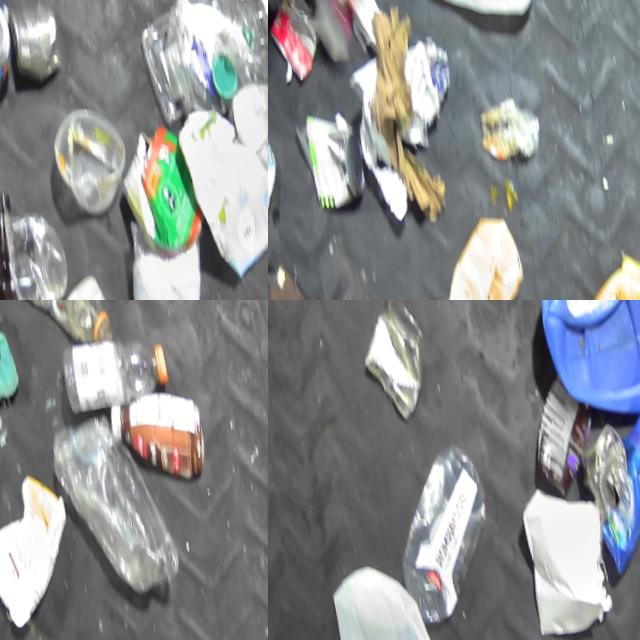can: (353, 300, 439, 424), (304, 106, 374, 212), (1, 0, 70, 97), (0, 0, 26, 106)
milk_jug: (327, 550, 464, 640), (403, 0, 556, 27)
non_white_jug: (520, 300, 640, 420), (428, 201, 544, 300)
plastic_bottle: (57, 321, 178, 418), (5, 300, 108, 342), (268, 125, 288, 228)
